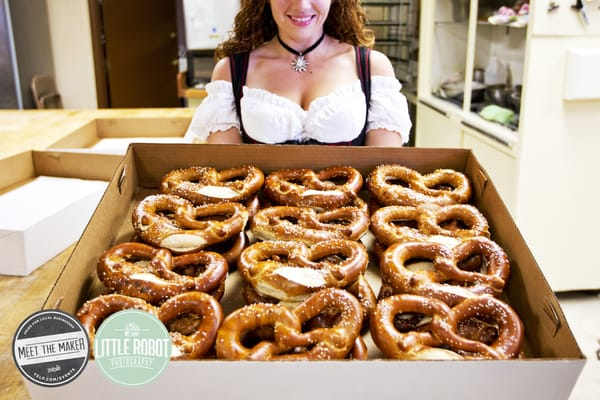salad: (370, 292, 523, 360), (382, 234, 511, 304), (238, 236, 369, 302), (96, 244, 229, 305), (133, 193, 249, 262), (215, 302, 309, 360), (76, 292, 157, 354), (294, 288, 365, 358), (450, 295, 524, 358), (157, 291, 224, 359), (161, 164, 265, 202), (248, 204, 345, 243), (369, 205, 441, 245), (366, 163, 431, 204), (309, 205, 369, 239), (435, 203, 489, 239), (422, 167, 472, 204), (316, 165, 364, 194)
